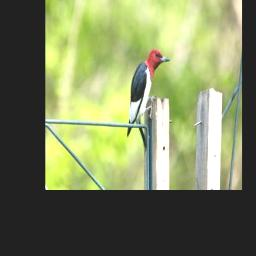Woodpecker: (127, 49, 171, 137)
